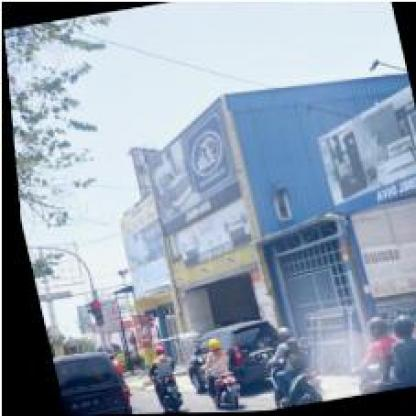red: (83, 301, 97, 326)
